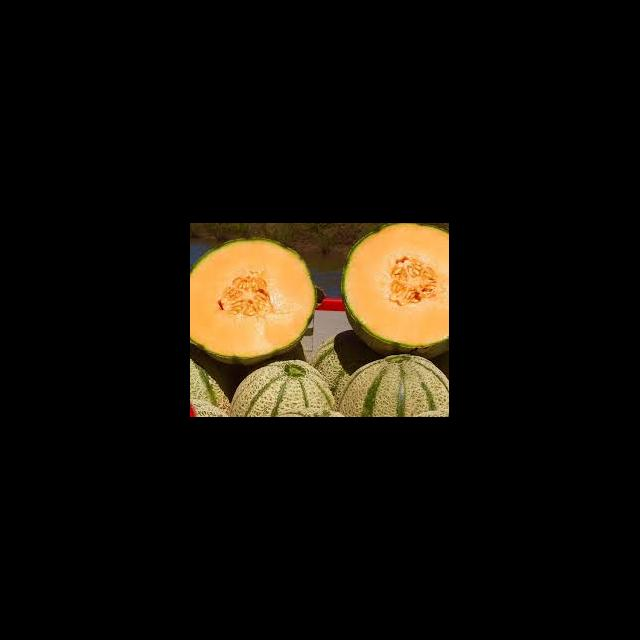Hami Melon: (190, 236, 316, 366), (342, 223, 449, 355)
